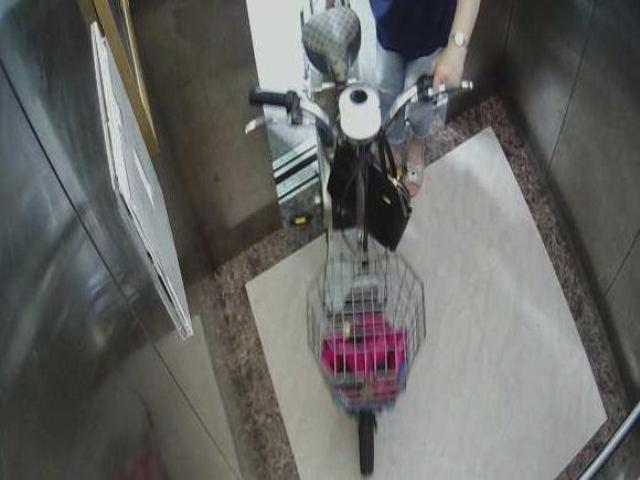emotor: (243, 4, 452, 470)
